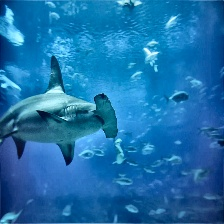shark: (0, 55, 123, 172)
